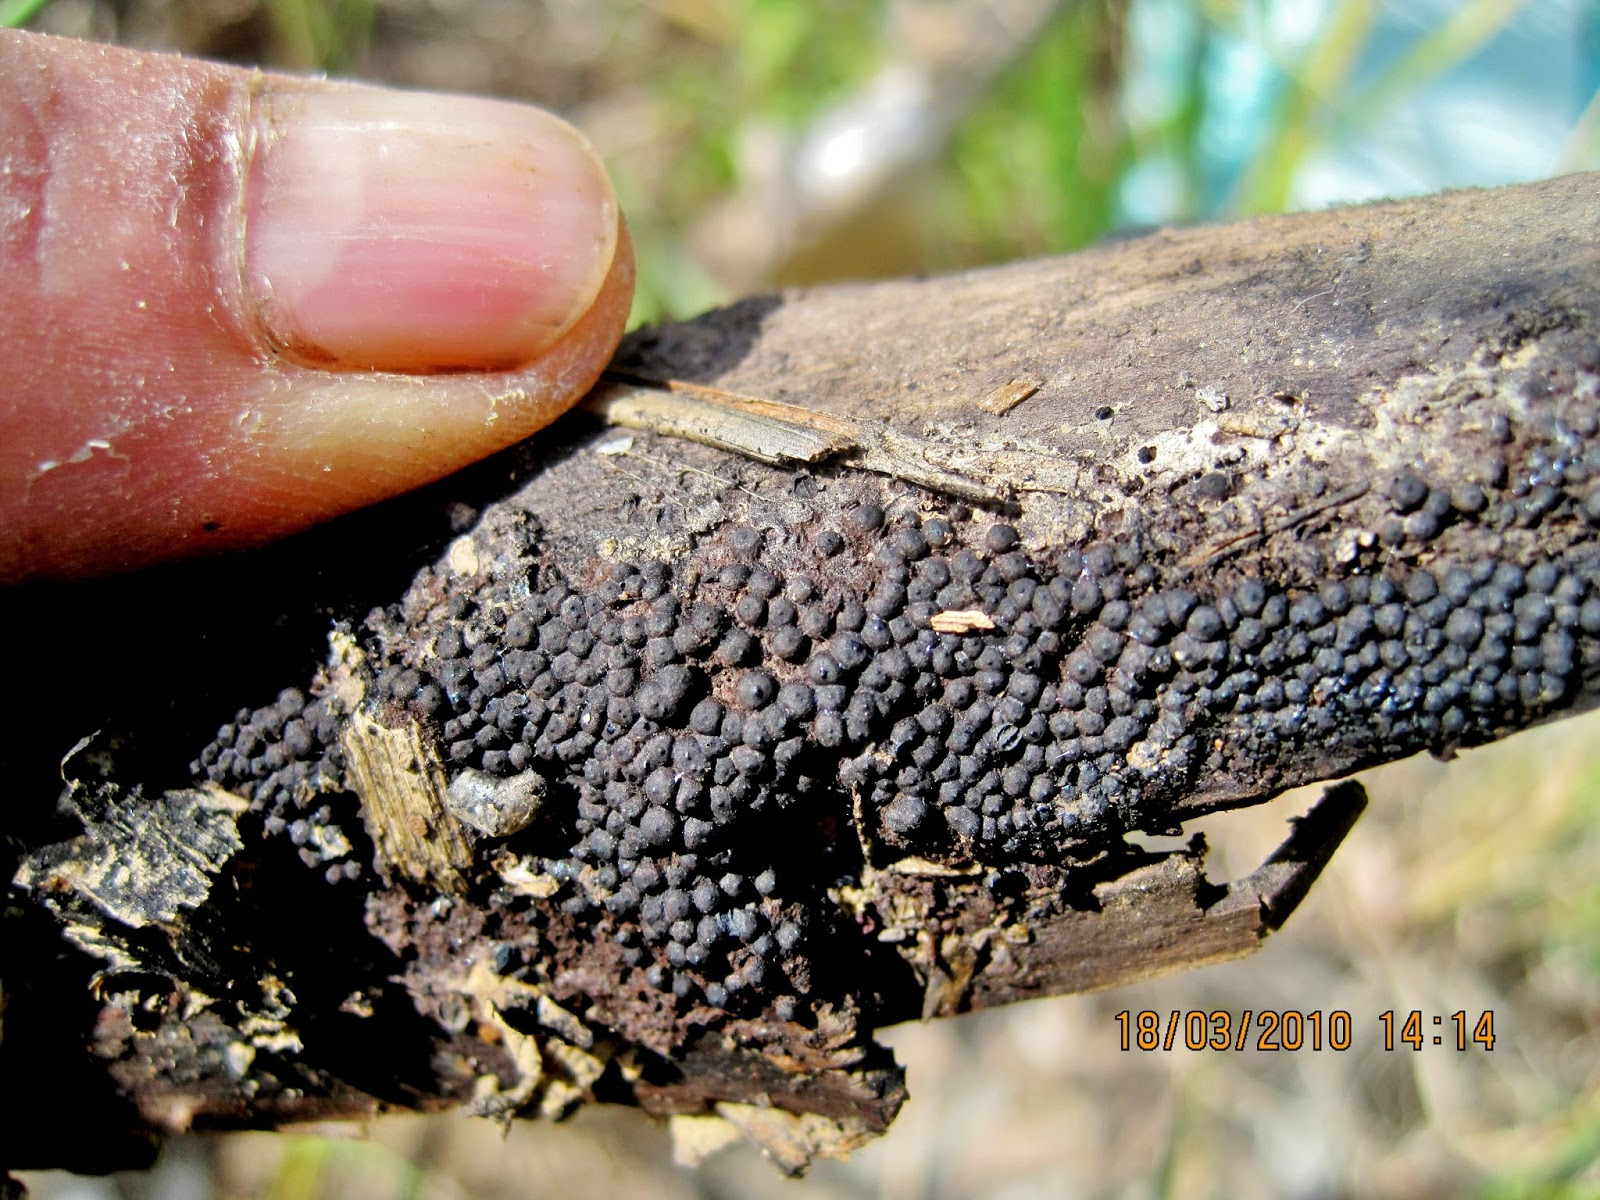pudricion radicular: (328, 447, 1580, 993)
